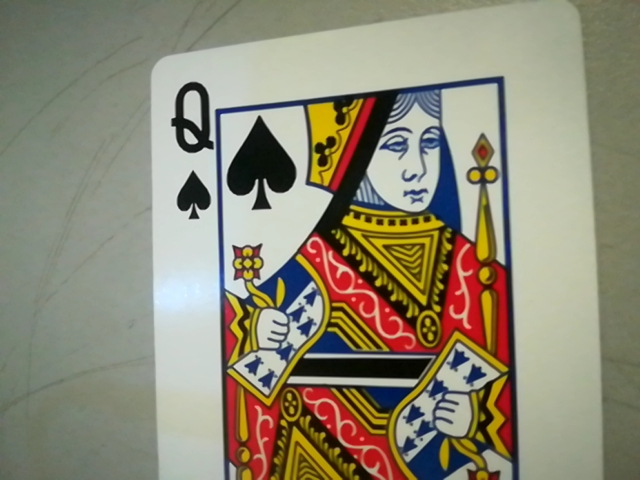ht q: (163, 75, 220, 221)
